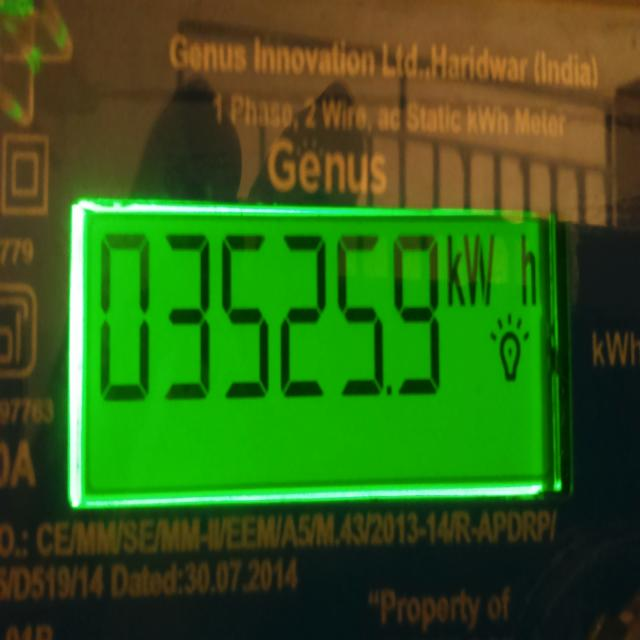.: (382, 371, 397, 411)
0: (96, 228, 160, 421)
2: (280, 226, 330, 412)
3: (163, 219, 215, 416)
5: (220, 224, 278, 420), (329, 219, 389, 407)
9: (388, 227, 445, 399)
